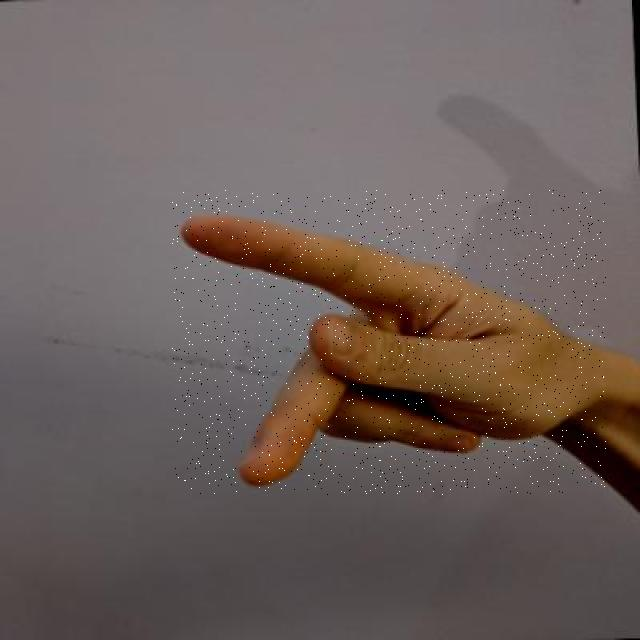P: (172, 190, 606, 495)
